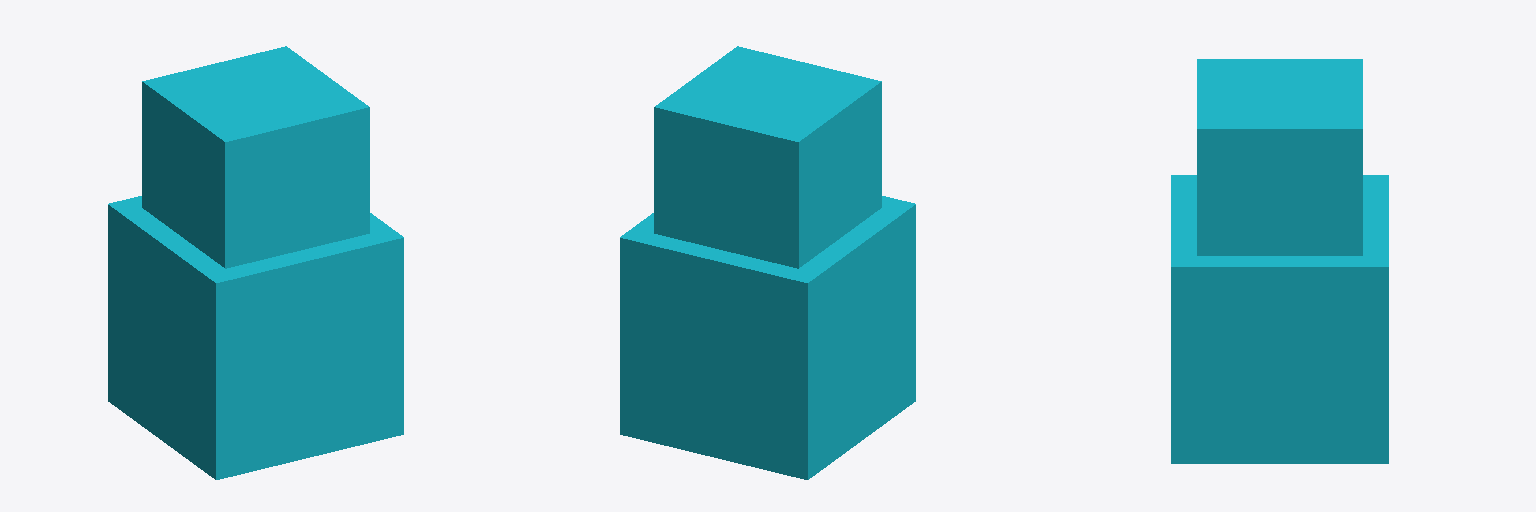
The picture shows the model from 3 angles: view 1: azimuth 30°, elevation 25°; view 2: azimuth 150°, elevation 25°; view 3: azimuth 270°, elevation 25°; orthographic projection.
Visible parts, largest first — view 1: Cube; view 2: Cube; view 3: Cube.
Part boxes in pixels (x1,y1,x2,y2): Cube: (108,46,403,479); Cube: (620,46,915,479); Cube: (1171,59,1388,463).
Bounding box in the file's own units: 0.6053 × 0.9939 × 0.6053.
1 materials, 1 textured.